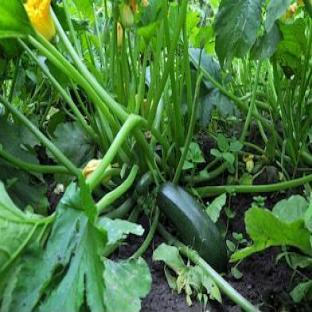Zucchini: (158, 183, 227, 271), (136, 172, 153, 195)
